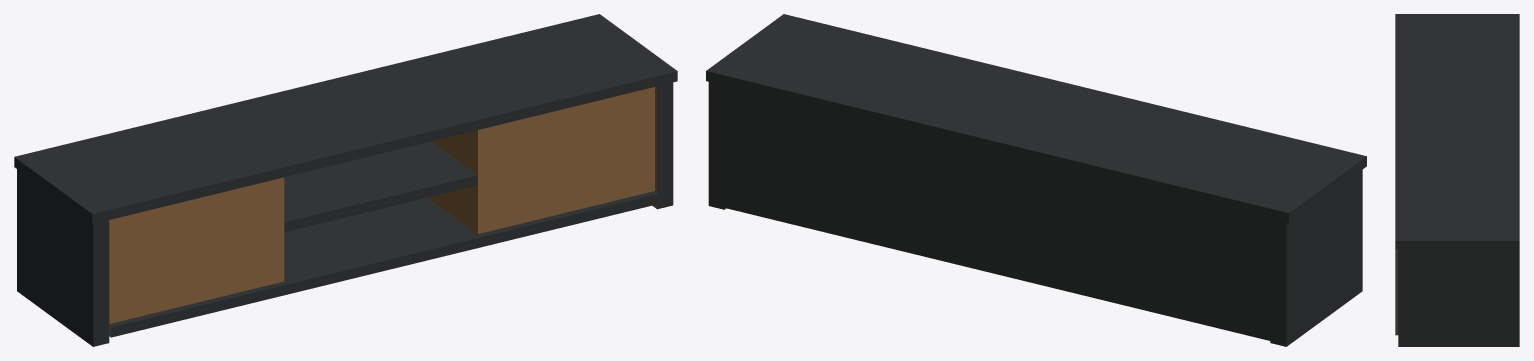
File: TableTelevision.fbx
3 renders of one model, left to right at view 1: azimuth 30°, elevation 25°; view 2: azimuth 150°, elevation 25°; view 3: azimuth 270°, elevation 25°, orthographic. The views are drawn at different scales.
Parts seen in each view (by area): view 1: table-television; view 2: table-television; view 3: table-television.
Part boxes in pixels (bbox=[...]): table-television: bbox=[14, 14, 677, 346]; table-television: bbox=[706, 14, 1366, 346]; table-television: bbox=[1395, 14, 1519, 346].
Size of the model in its own units: 182 by 40 by 42.
